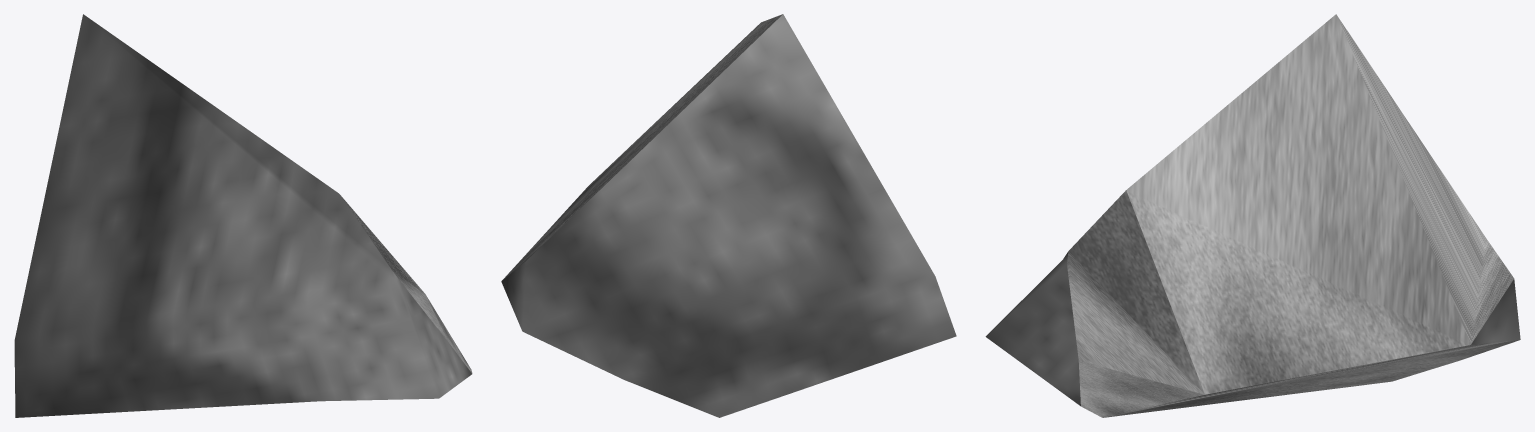
The model's file is tail_cell_012.fbx.
3 views of the same model, side by side, from view 1: azimuth 30°, elevation 25°; view 2: azimuth 150°, elevation 25°; view 3: azimuth 270°, elevation 25° (orthographic). The views are drawn at different scales.
Visible parts, largest first — view 1: tail_cell.012; view 2: tail_cell.012; view 3: tail_cell.012.
Part boxes in pixels (x1,y1,x2,y2): tail_cell.012: (14,14,472,417); tail_cell.012: (501,14,956,417); tail_cell.012: (985,14,1520,417).
Bounding box in the file's own units: 33.02 × 31.74 × 43.61.
